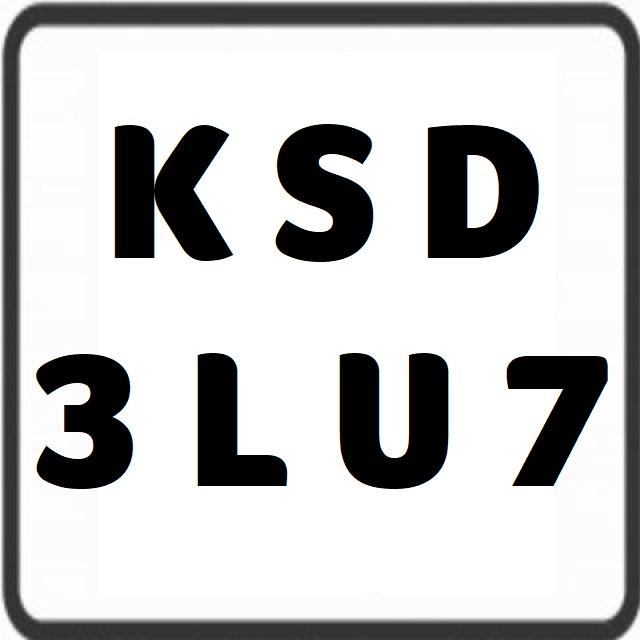3: (29, 348, 138, 496)
D: (420, 119, 545, 265)
K: (98, 117, 237, 266)
L: (188, 349, 294, 497)
S: (269, 117, 379, 265)
T: (503, 343, 612, 495)
U: (331, 342, 455, 498)
